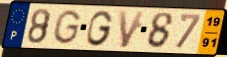7: (175, 12, 203, 50)
8: (147, 11, 175, 50), (27, 7, 53, 45)
G: (51, 9, 83, 46), (85, 9, 115, 47)
V: (117, 9, 147, 49)
